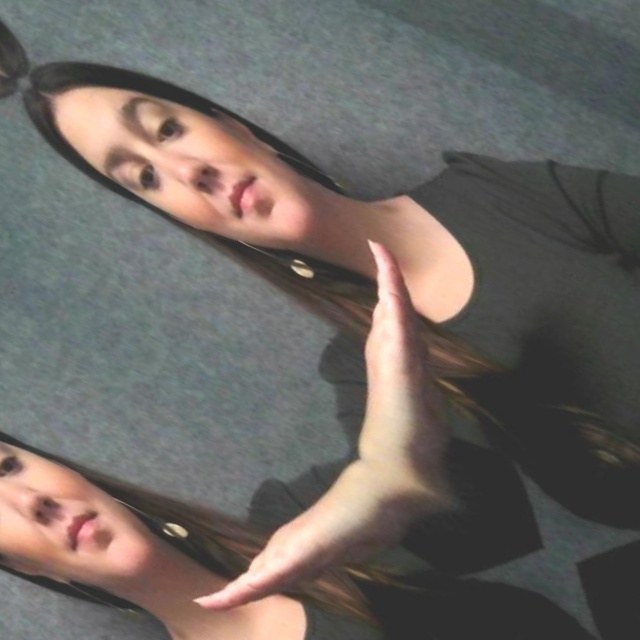Paper: (177, 449, 410, 640)
